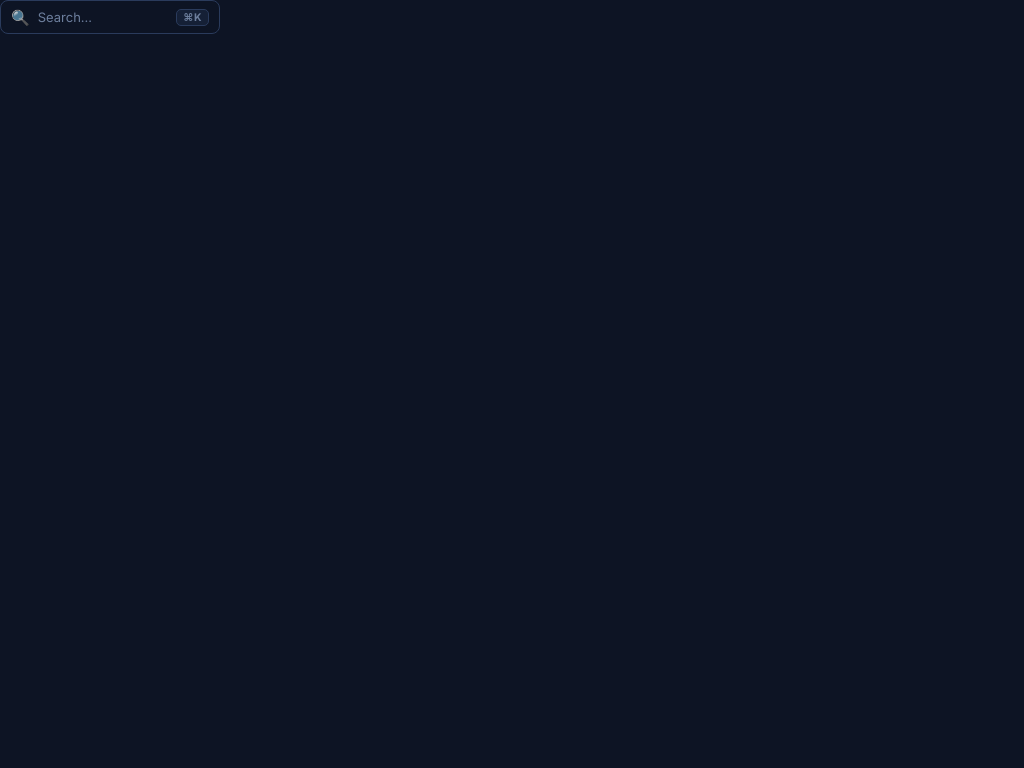
CommandPalette / global search › Enter navigates to the highlighted result and closes the palette
Step 1. Press k
Wait 1 ms
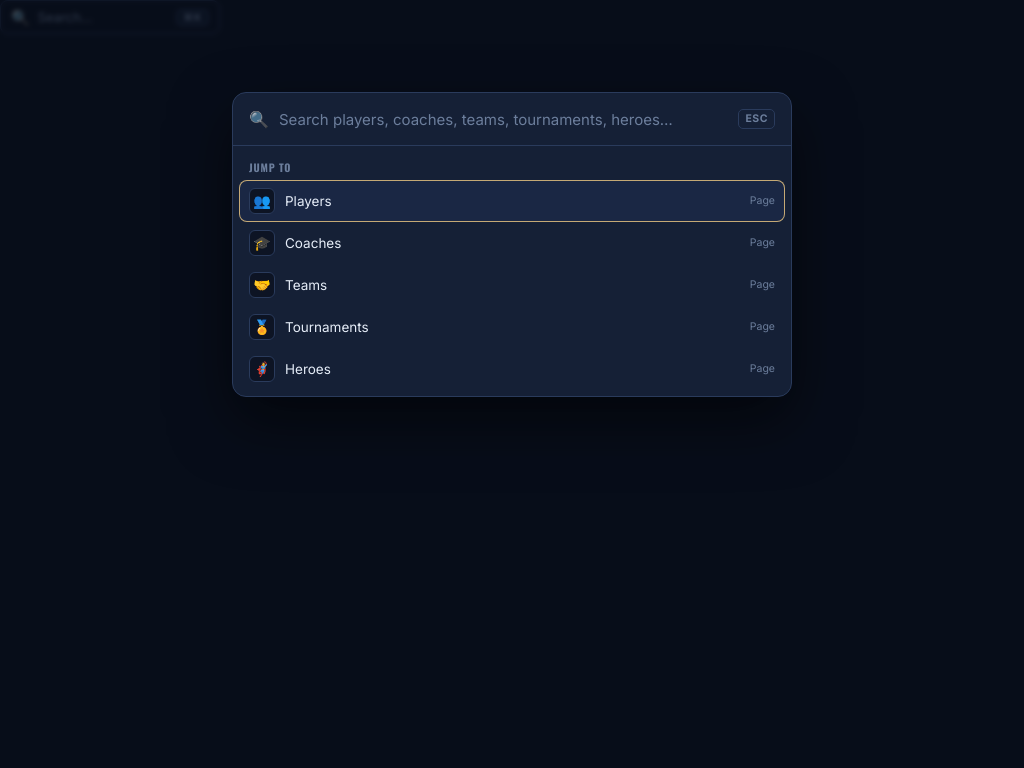
Step 2. Type "inv" into the dropdown with placeholder "Search players, coaches, teams, tournaments, heroes…" → (504, 119), box [279,110,728,129]
Wait 250 ms
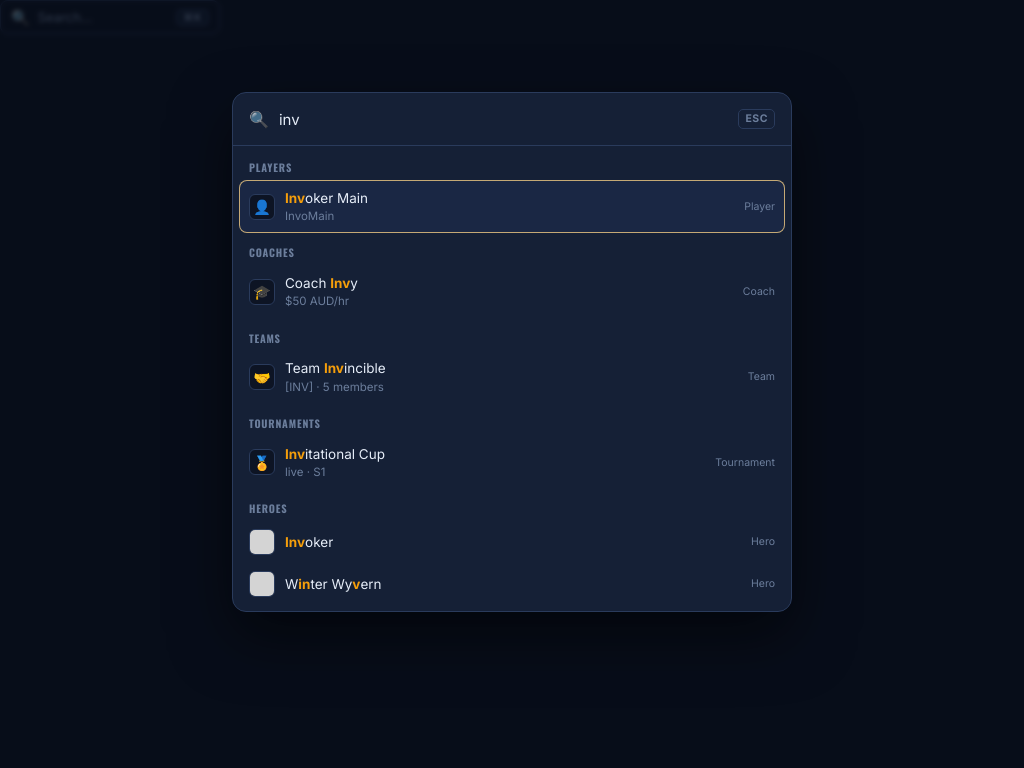
# First result is the top-ranked player ("Invoker Main", account_id 42).
Step 3. Press Enter in the dropdown named "Search players, coaches, teams, tournaments and heroes", box [279,110,728,129]
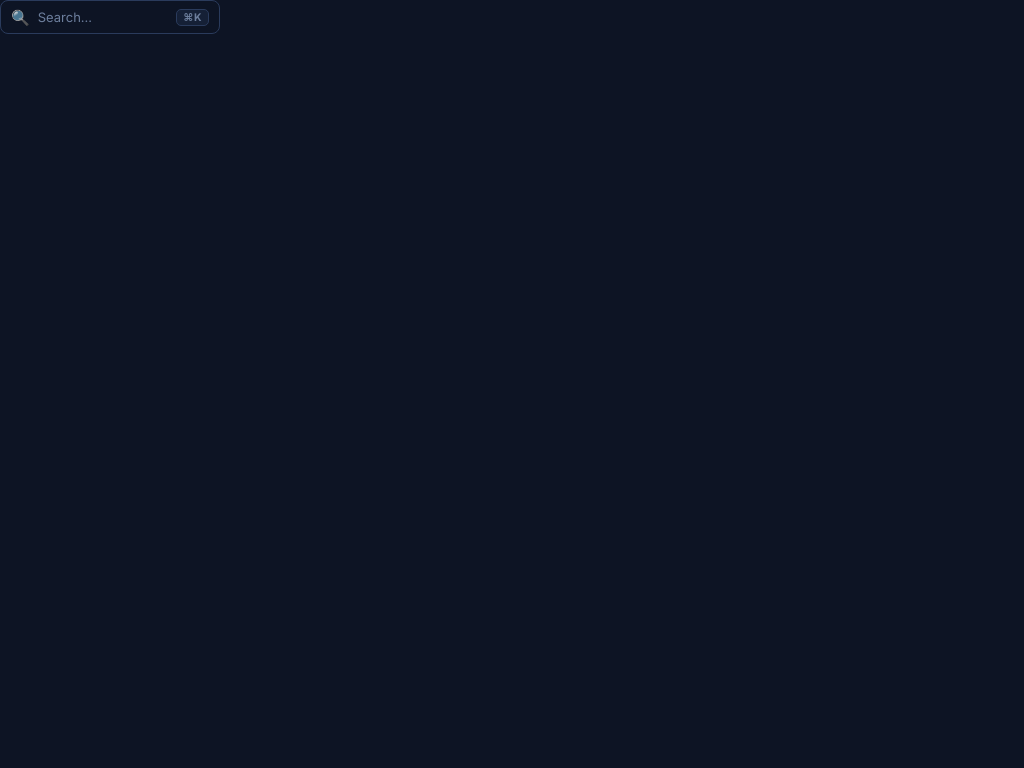
Now the dialog is gone
